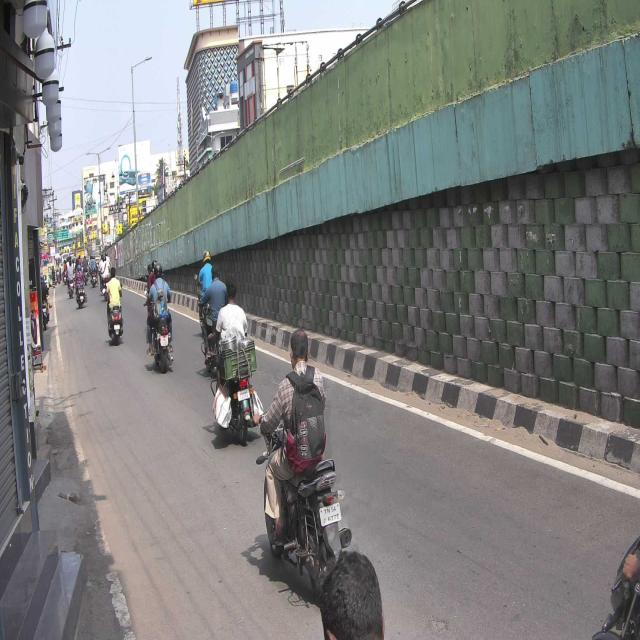single_rider: (255, 328, 352, 600)
